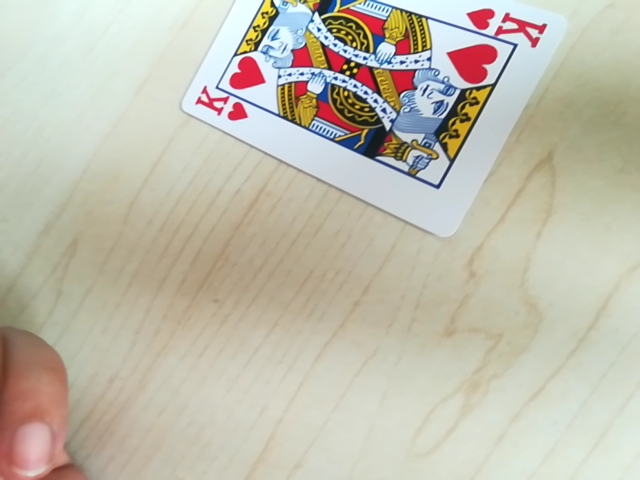hx k: (464, 7, 550, 46), (190, 90, 256, 128)
